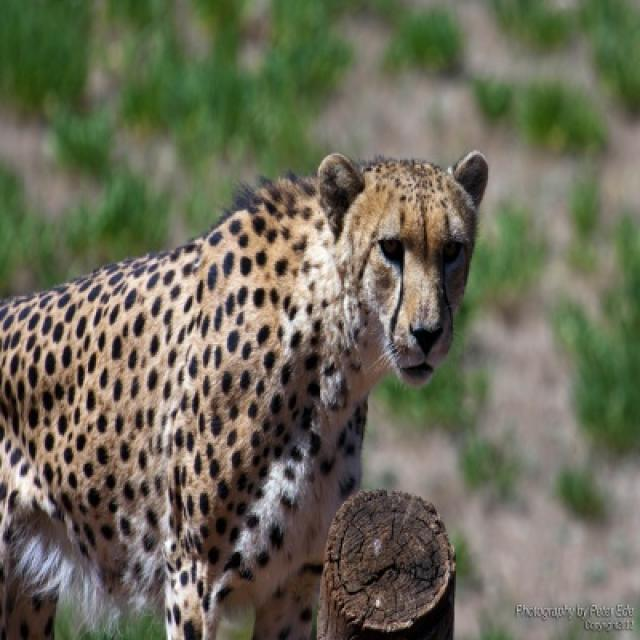Cheetah: (0, 150, 486, 638)
